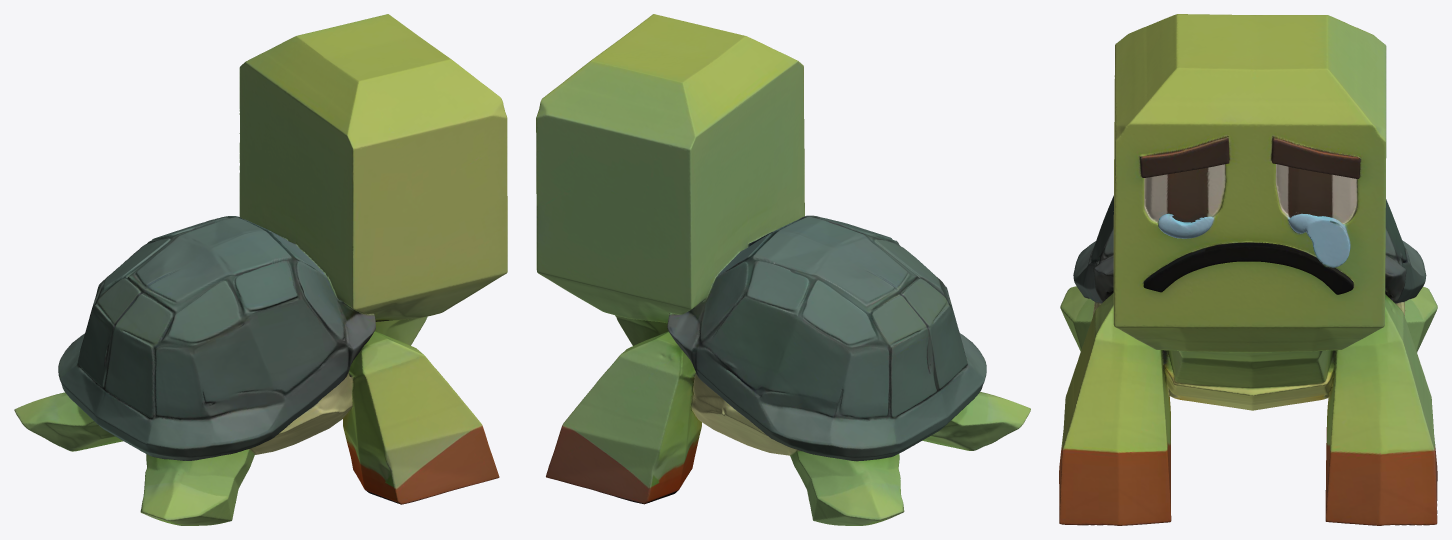
File: mock_turtle.glb
3 renders of one model, left to right at view 1: azimuth 30°, elevation 25°; view 2: azimuth 150°, elevation 25°; view 3: azimuth 270°, elevation 25°, orthographic. The views are drawn at different scales.
Parts seen in each view (by area): view 1: tripo_node_9c06f37b-c9a5-42a8-ae11-b227b721aaa4; view 2: tripo_node_9c06f37b-c9a5-42a8-ae11-b227b721aaa4; view 3: tripo_node_9c06f37b-c9a5-42a8-ae11-b227b721aaa4.
Part boxes in pixels (<box>): tripo_node_9c06f37b-c9a5-42a8-ae11-b227b721aaa4: <box>14,14,507,525</box>; tripo_node_9c06f37b-c9a5-42a8-ae11-b227b721aaa4: <box>536,14,1030,525</box>; tripo_node_9c06f37b-c9a5-42a8-ae11-b227b721aaa4: <box>1059,14,1437,525</box>.
Bounding box in the file's own units: 1 × 0.9839 × 0.7248.
Materials: 1 (1 with a texture image).
